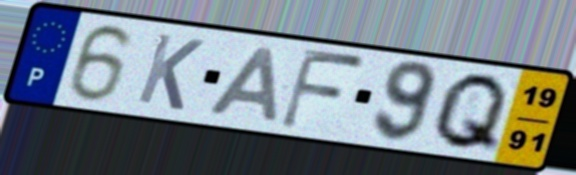6: (65, 22, 138, 105)
9: (368, 58, 439, 147)
A: (204, 44, 281, 125)
F: (275, 45, 369, 133)
K: (133, 30, 208, 114)
Q: (428, 70, 512, 157)
